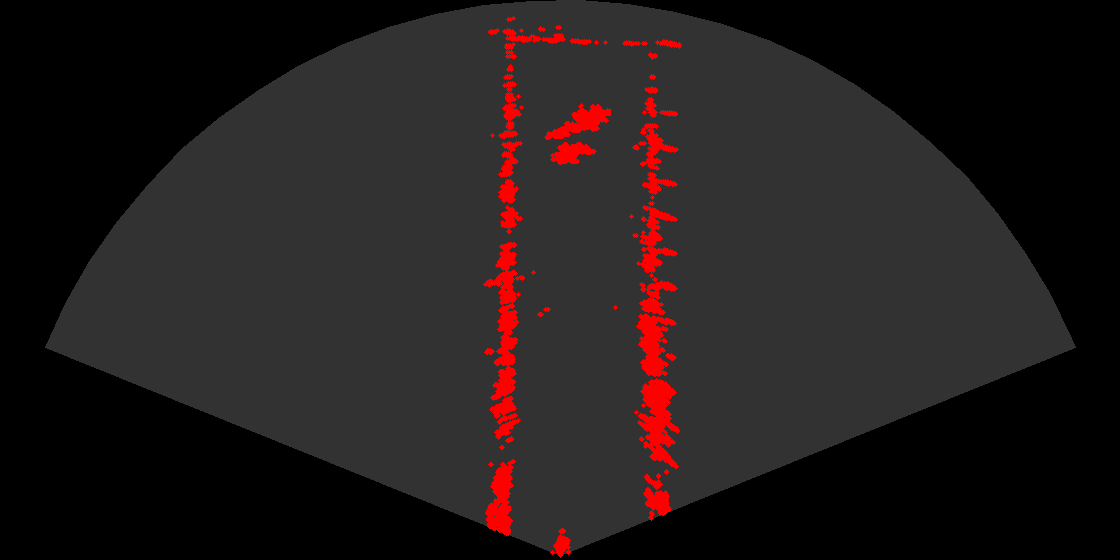AUV: (544, 140, 600, 172)
frogman: (543, 97, 611, 144)
